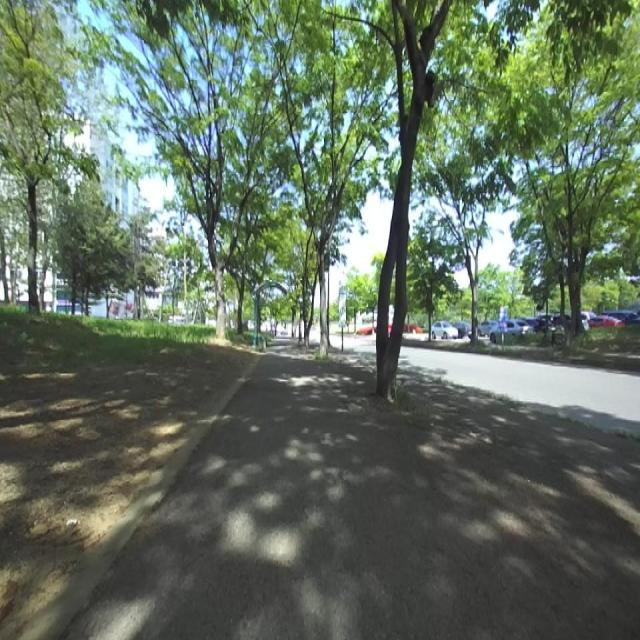sidewalk: (64, 340, 640, 639)
